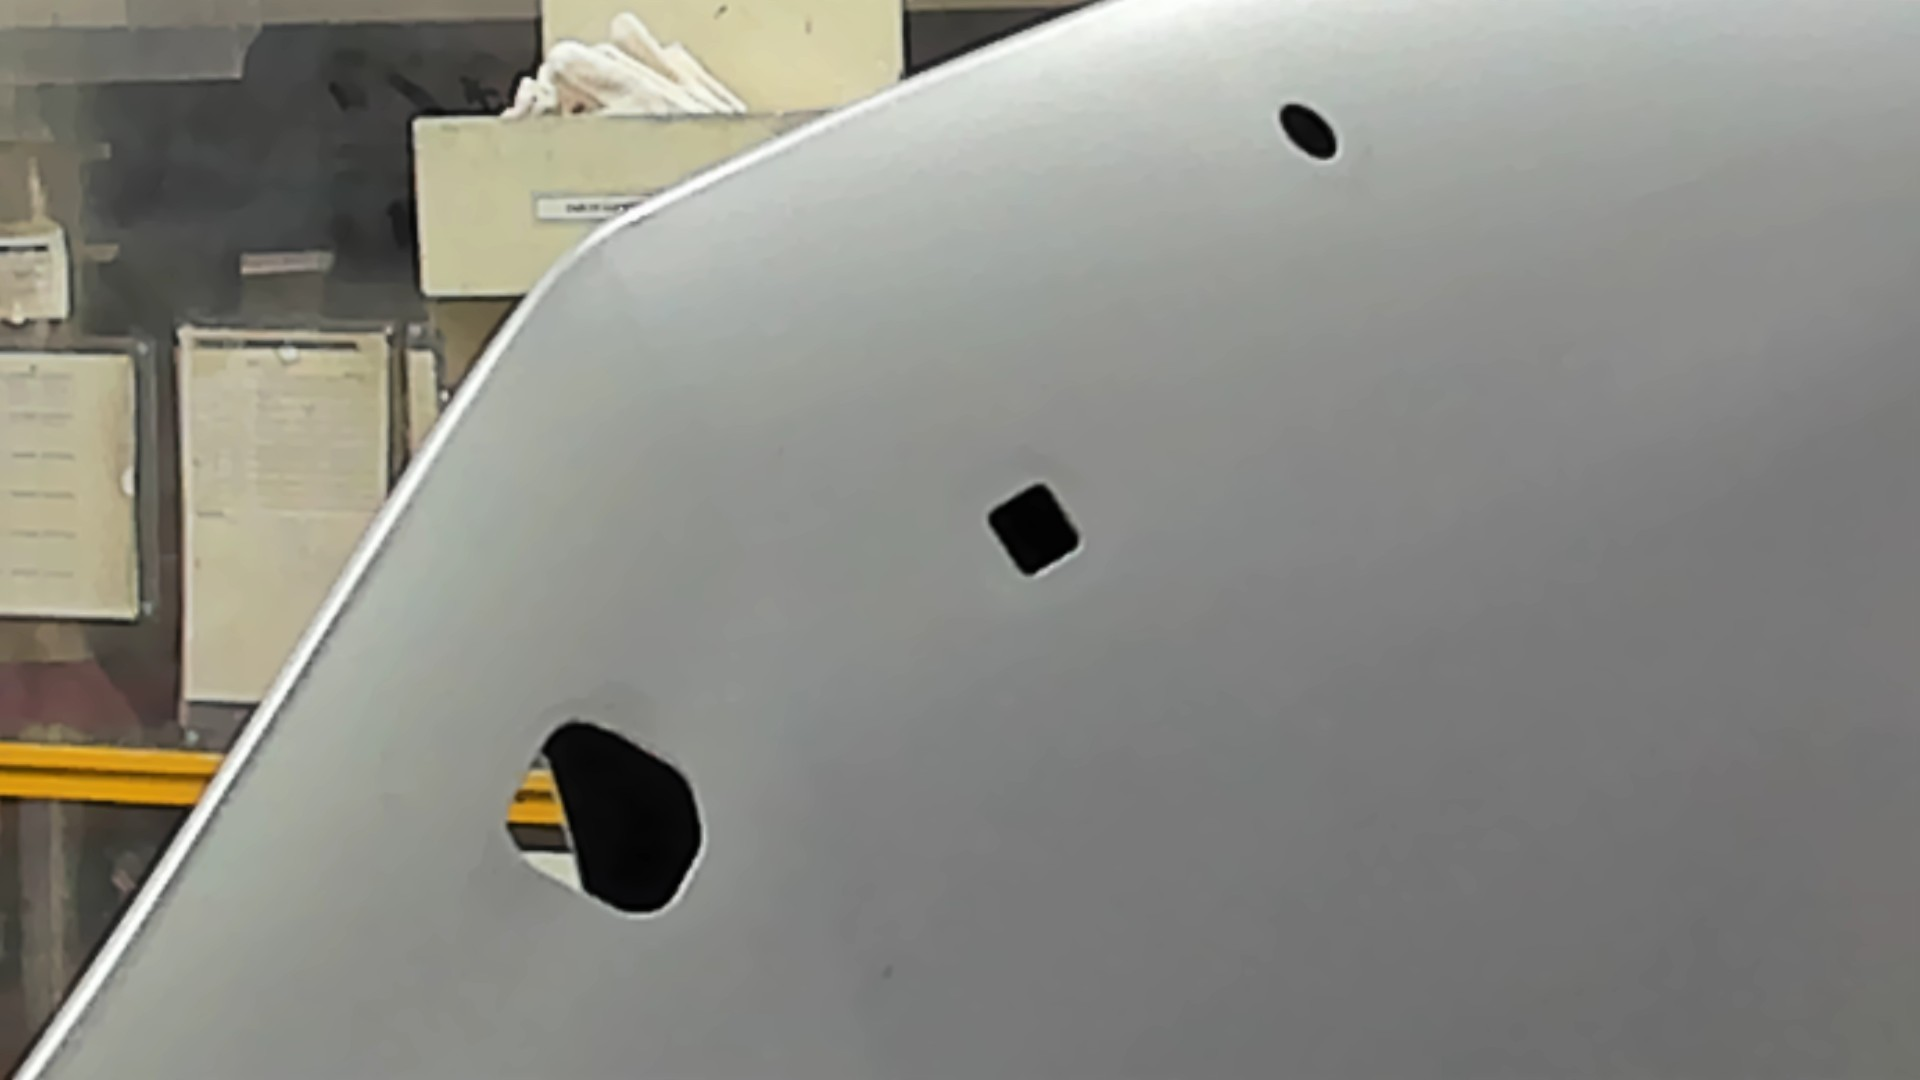chico: (1270, 95, 1345, 167)
grande: (498, 717, 707, 928)
mediano: (982, 476, 1089, 588)
